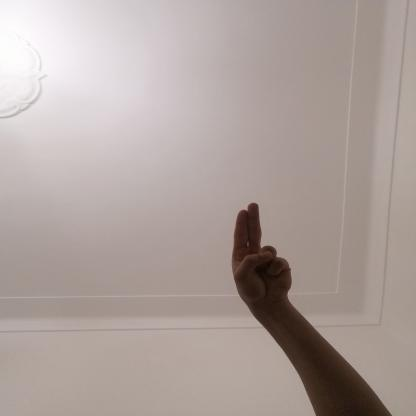TA: (218, 191, 300, 313)
